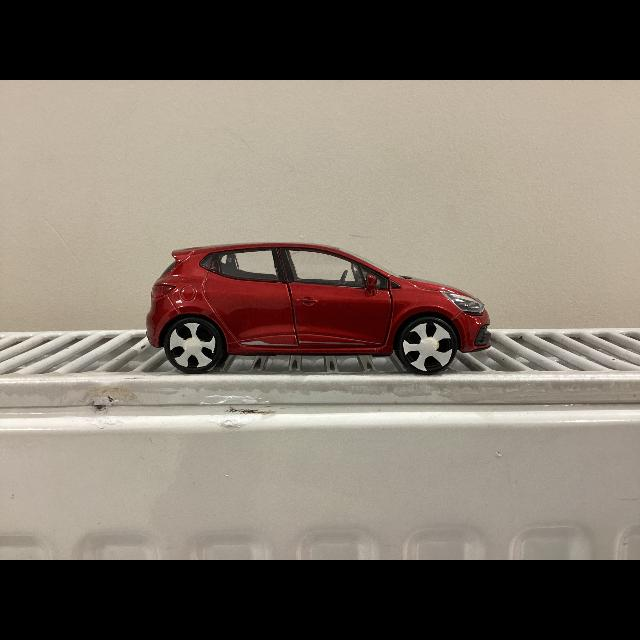Yanlis_Jant: (403, 321, 453, 371), (170, 322, 217, 368)
